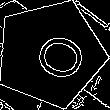O_W: (18, 24, 83, 84)
